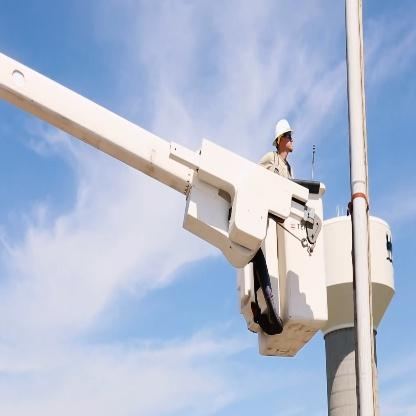helmet: (261, 114, 301, 155)
